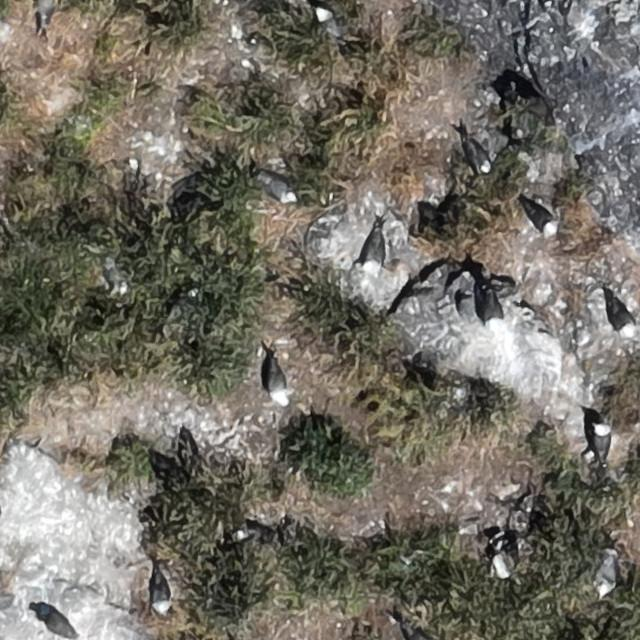umineko: (491, 536, 517, 579), (364, 227, 384, 278), (262, 178, 294, 204), (610, 301, 635, 334), (529, 207, 558, 235), (268, 364, 288, 404), (152, 576, 171, 614), (600, 556, 618, 594), (318, 9, 340, 39), (592, 423, 610, 457), (482, 294, 500, 328), (472, 146, 492, 173), (40, 1, 56, 27), (404, 628, 434, 640)
